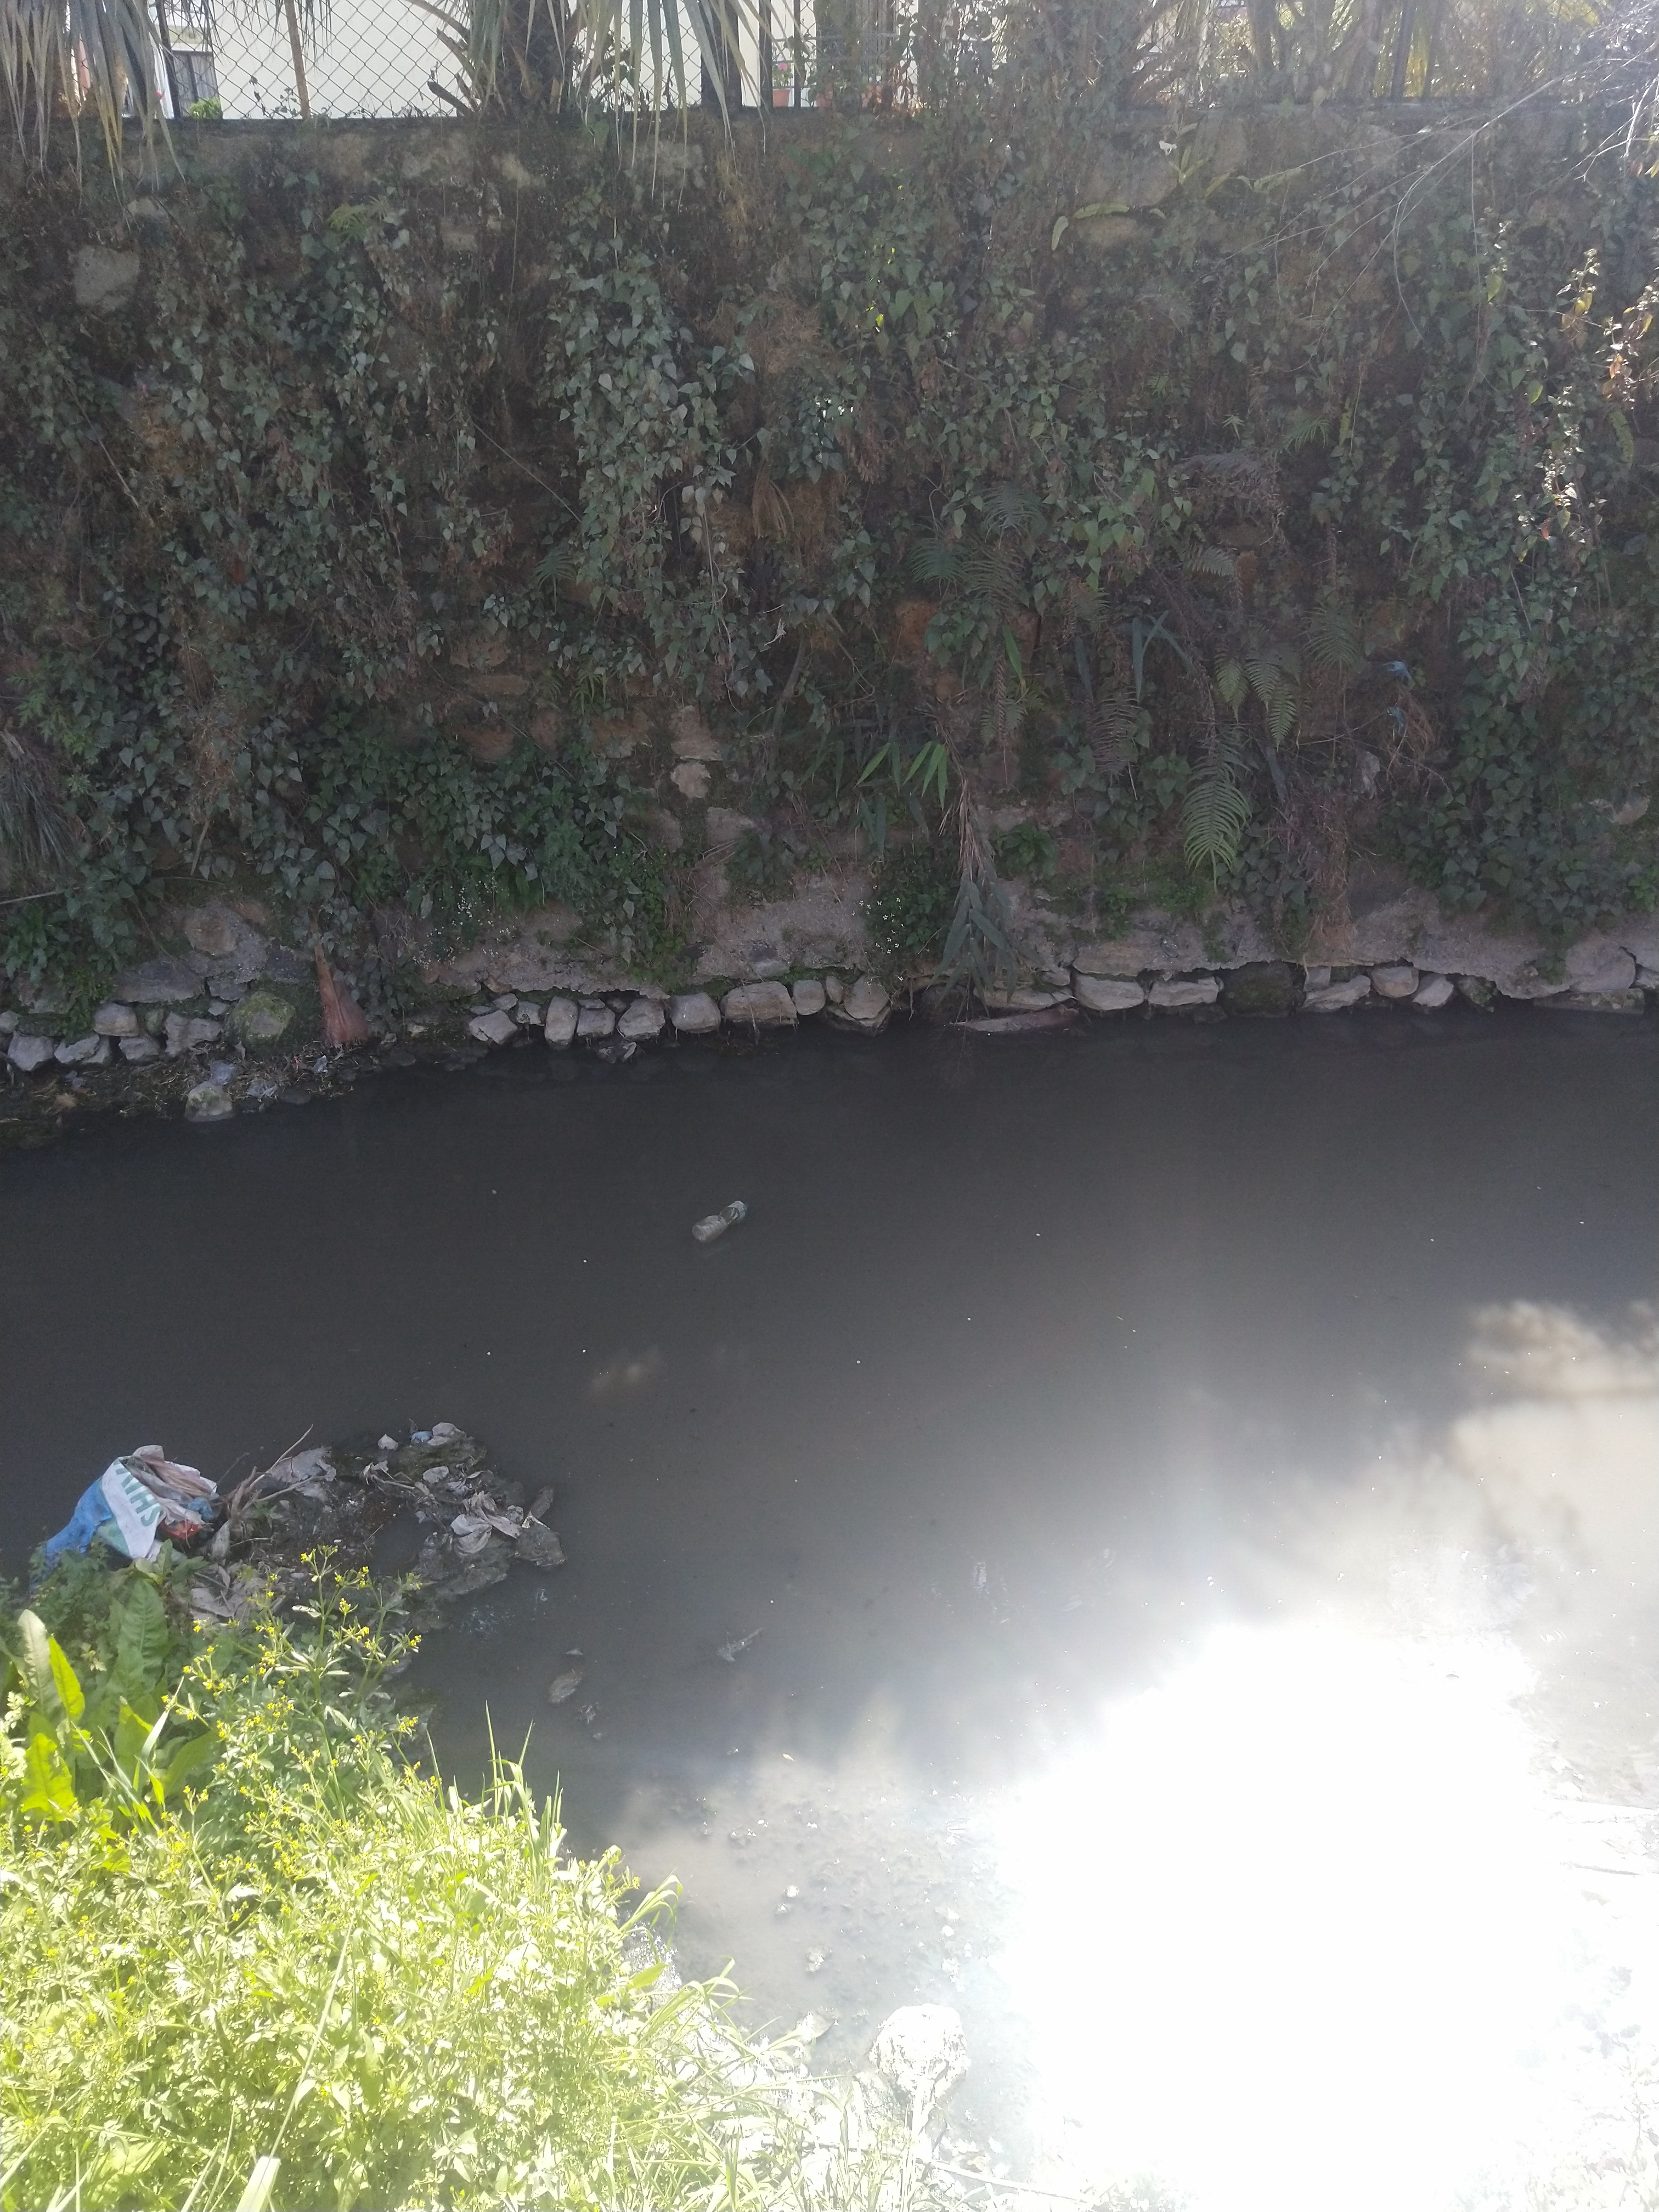Plastic Bottle: (692, 1200, 748, 1244)
